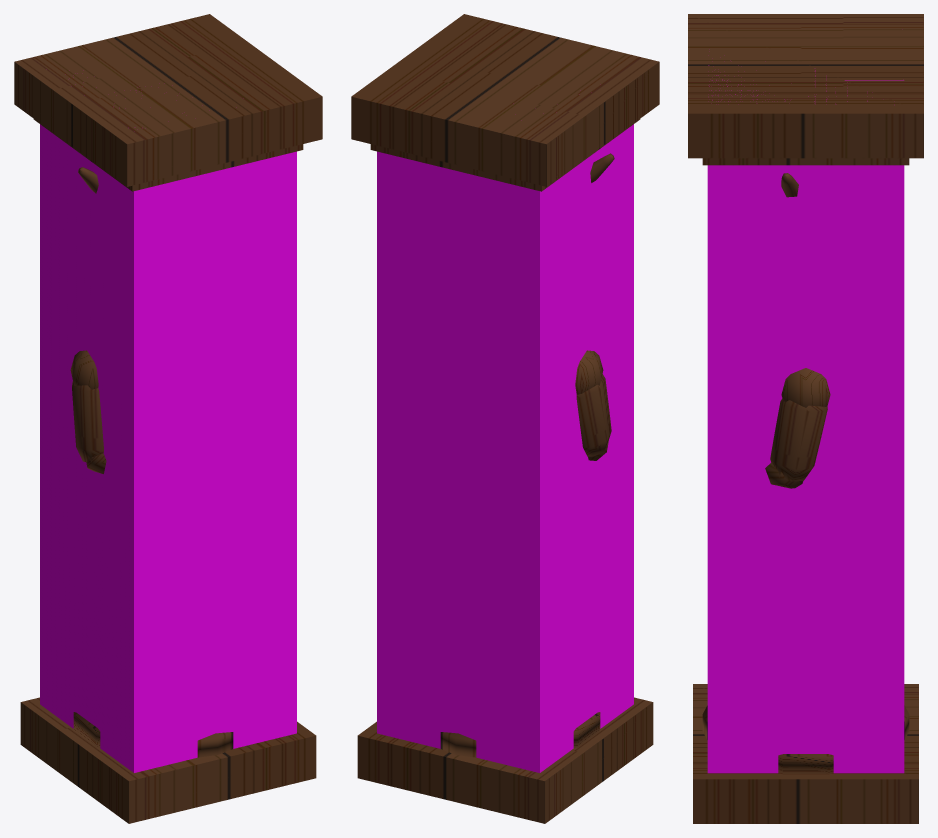
File: tiang_ukir.glb
The picture shows the model from 3 angles, left to right: view 1: azimuth 30°, elevation 25°; view 2: azimuth 150°, elevation 25°; view 3: azimuth 270°, elevation 25°; orthographic projection. The views are drawn at different scales.
Parts seen in each view (by area): view 1: col_tiang_ukir, tiang_ukir_body; view 2: col_tiang_ukir, tiang_ukir_body; view 3: col_tiang_ukir, tiang_ukir_body.
Part boxes in pixels (x1=…): col_tiang_ukir: x1=40, y1=124, x2=296, y2=772; tiang_ukir_body: x1=14, y1=14, x2=322, y2=823; col_tiang_ukir: x1=377, y1=124, x2=633, y2=772; tiang_ukir_body: x1=351, y1=14, x2=659, y2=823; col_tiang_ukir: x1=707, y1=65, x2=904, y2=773; tiang_ukir_body: x1=688, y1=14, x2=923, y2=823.
Size of the model in its own units: 0.4859 by 1.6 by 0.48.
3 materials, 2 textured.
